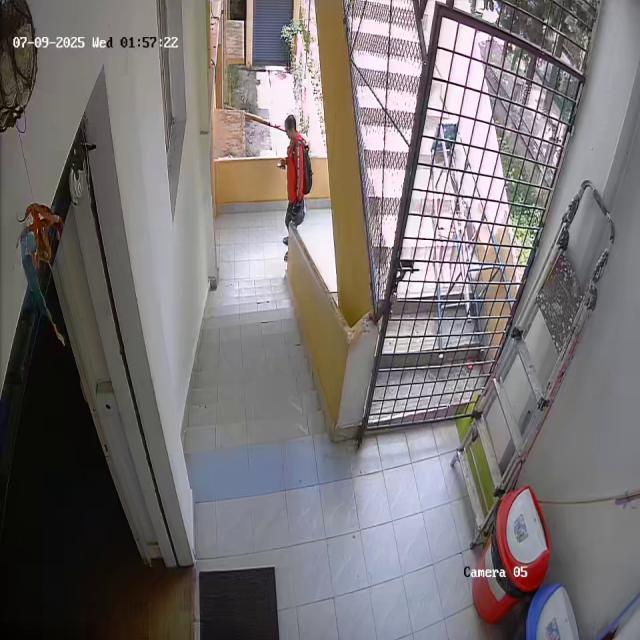person: (276, 114, 310, 257)
